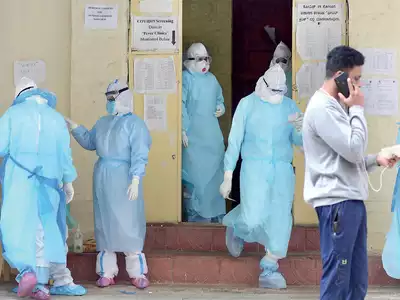Coverall: (1, 79, 83, 272), (85, 81, 165, 273), (227, 63, 302, 245), (178, 42, 229, 208)
Gloves: (220, 170, 235, 198), (126, 176, 140, 201)
with_mask: (192, 51, 212, 74), (103, 93, 120, 115)
